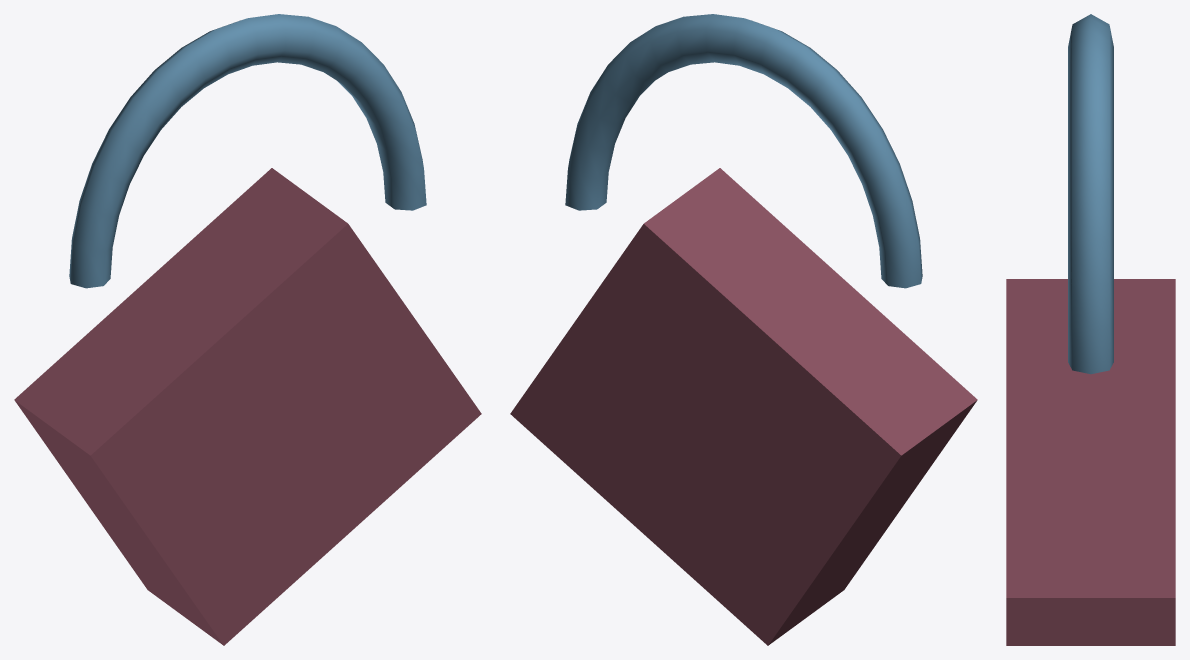
The model's file is off_15_alchemist_satchel.glb.
3 renders of one model, left to right at view 1: azimuth 30°, elevation 25°; view 2: azimuth 150°, elevation 25°; view 3: azimuth 270°, elevation 25°, orthographic. The views are drawn at different scales.
Visible parts, largest first — view 1: satchel, strap; view 2: satchel, strap; view 3: satchel, strap.
Boxes of the visible parts, x1=… form: satchel: x1=14, y1=168, x2=481, y2=645; strap: x1=69, y1=14, x2=426, y2=288; satchel: x1=510, y1=168, x2=977, y2=645; strap: x1=565, y1=14, x2=922, y2=288; satchel: x1=1006, y1=279, x2=1175, y2=645; strap: x1=1068, y1=14, x2=1113, y2=374.
Size of the model in its own units: 0.5916 by 0.8448 by 0.2.
